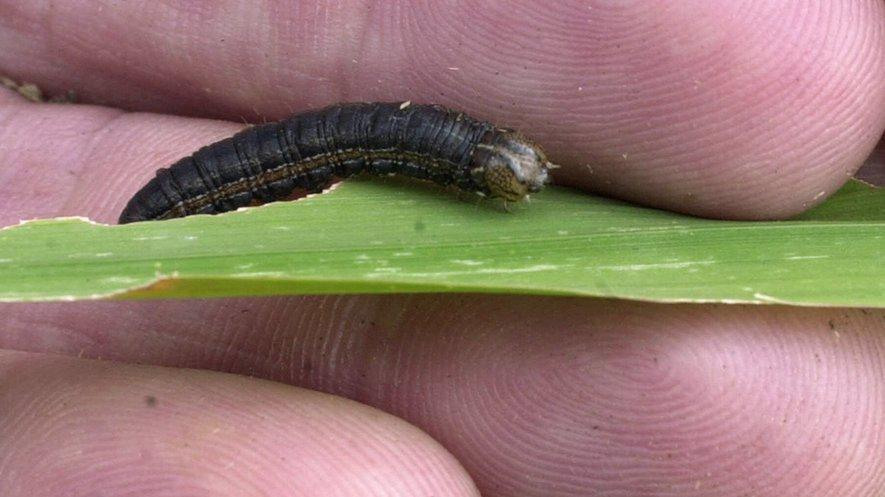caterpillars: (87, 83, 566, 258)
